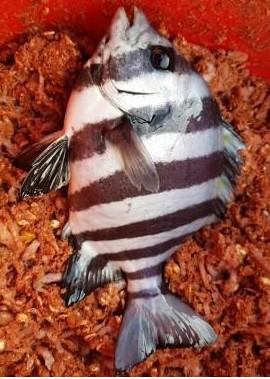fish: (13, 6, 247, 374)
